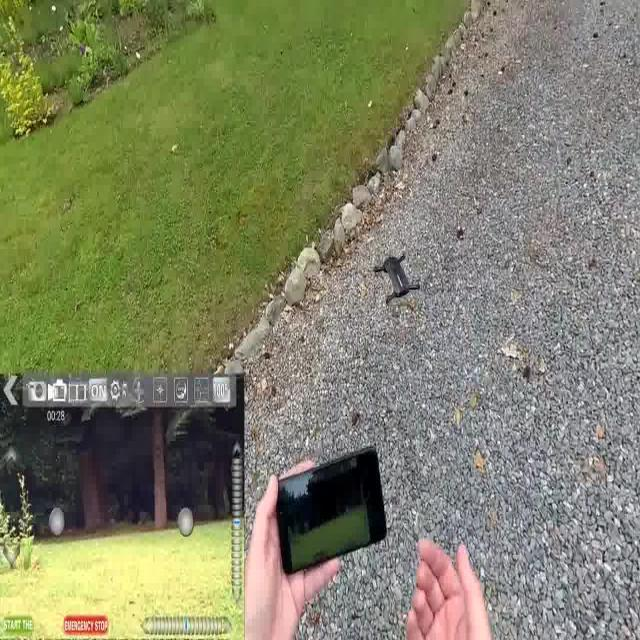drone: (371, 246, 424, 308)
